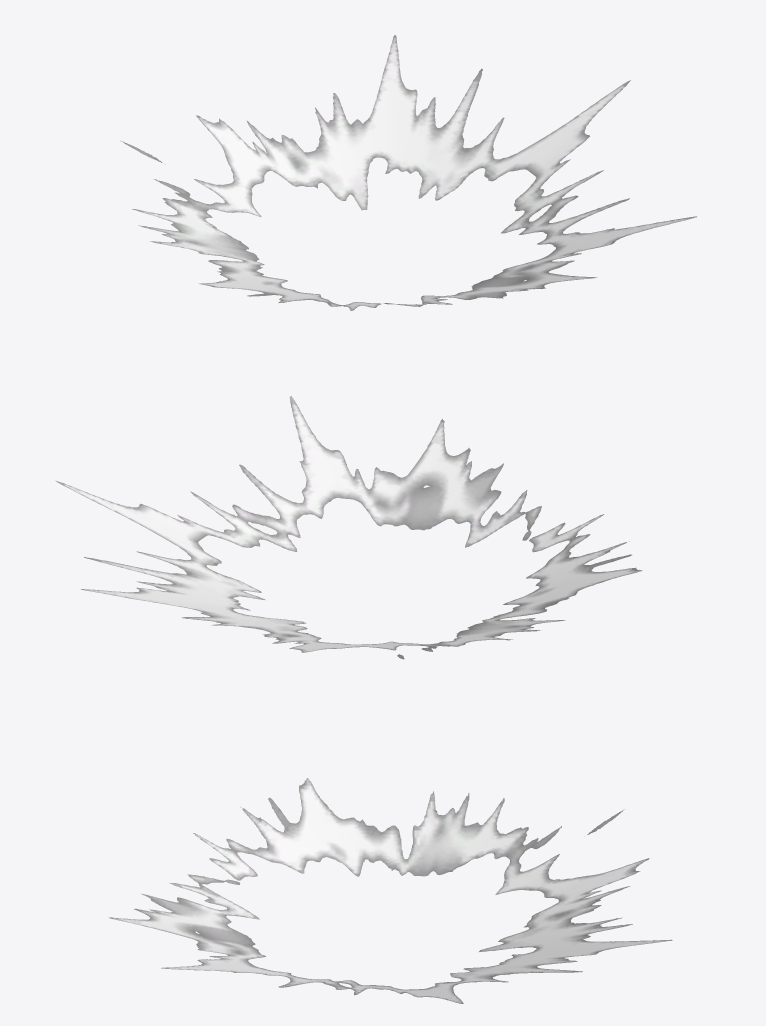
The model's file is kuo.FBX.
The picture shows the model from 3 angles, top to bottom: view 1: azimuth 30°, elevation 25°; view 2: azimuth 150°, elevation 25°; view 3: azimuth 270°, elevation 25°; orthographic projection.
Visible parts, largest first — view 1: kuo; view 2: kuo; view 3: kuo.
Part boxes in pixels (x1=…): kuo: x1=120, y1=35, x2=696, y2=310; kuo: x1=55, y1=396, x2=642, y2=659; kuo: x1=108, y1=778, x2=672, y2=1003.
Size of the model in its own units: 203 by 24.66 by 202.
Materials: 1 (1 with a texture image).
